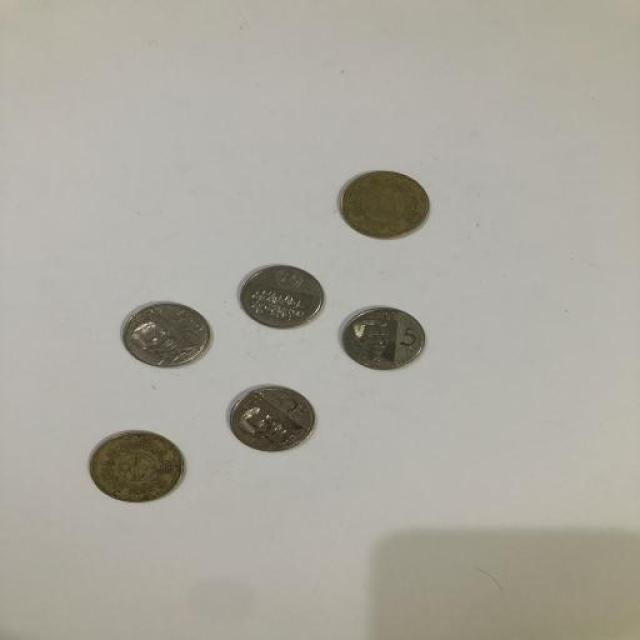5 peso: (225, 379, 318, 454), (119, 296, 213, 370), (336, 301, 431, 374), (235, 258, 330, 330)
5 peso-old: (86, 422, 192, 509), (335, 164, 436, 241)
